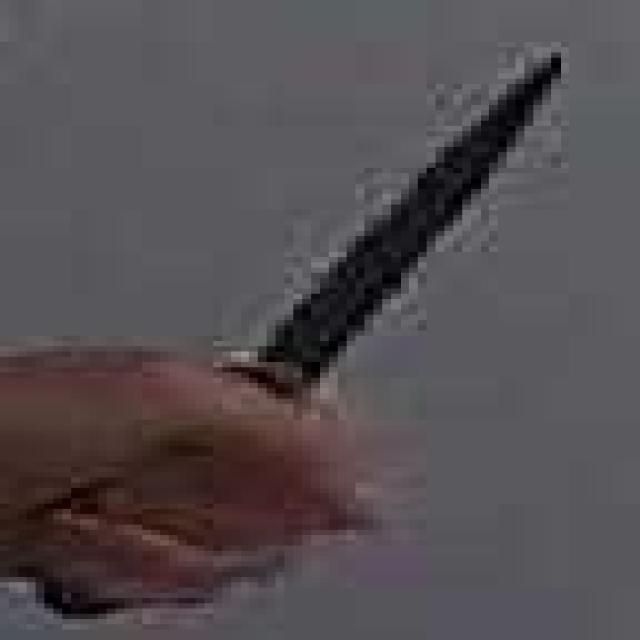Knife: (49, 36, 576, 631)
